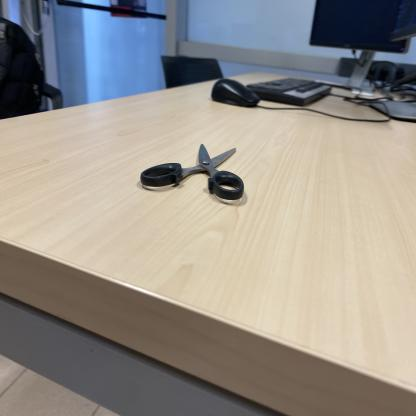scissors: (139, 145, 248, 202)
